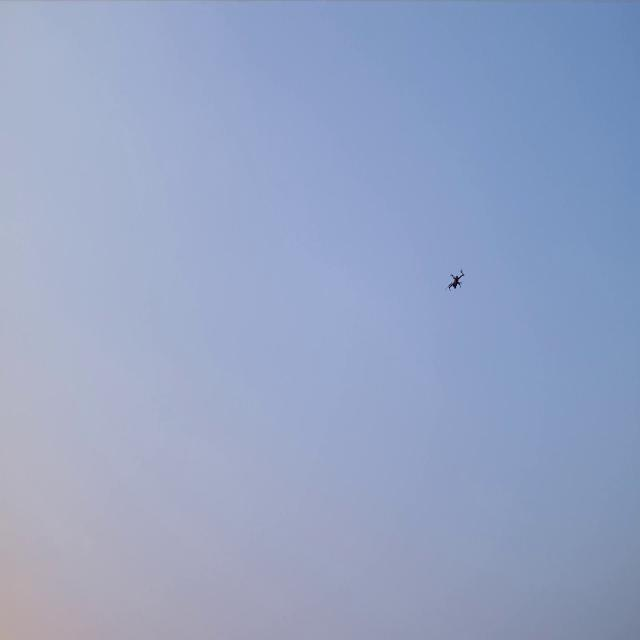UAV: (444, 268, 465, 293)
